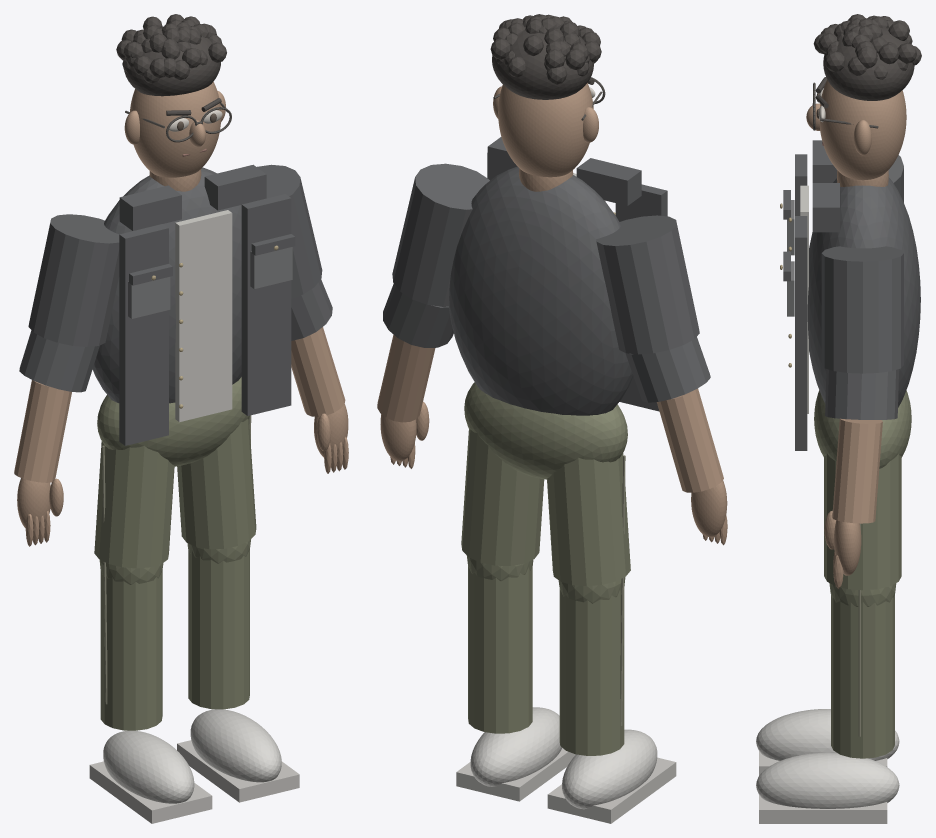
The model's file is bunty.glb.
3 renders of one model, left to right at view 1: azimuth 30°, elevation 25°; view 2: azimuth 150°, elevation 25°; view 3: azimuth 270°, elevation 25°, orthographic. The views are drawn at different scales.
Parts seen in each view (by area): view 1: white_tshirt, sleeve_upper_-1, pants_lower_1, pants_lower_-1, jacket_panel_1, jacket_panel_-1, pants_upper_-1, pants_upper_1, torso, head, sneaker_1, sneaker_-1 (+18 smaller); view 2: torso, sleeve_upper_-1, pants_lower_1, pants_lower_-1, pants_upper_-1, hip, sleeve_upper_1, pants_upper_1, head, sneaker_-1, sneaker_1, forearm_-1 (+15 smaller); view 3: sleeve_upper_1, pants_lower_1, torso, sneaker_1, head, pants_upper_1, forearm_1, sleeve_lower_1, sneaker_-1, jacket_panel_1, hair_base, hip (+16 smaller).
Boxes of the visible parts, x1=… form: white_tshirt: x1=175, y1=210, x2=232, y2=422; sleeve_upper_-1: x1=28, y1=214, x2=119, y2=346; pants_lower_1: x1=188, y1=548, x2=249, y2=709; pants_lower_-1: x1=100, y1=569, x2=162, y2=730; jacket_panel_1: x1=241, y1=194, x2=291, y2=415; jacket_panel_-1: x1=119, y1=224, x2=168, y2=445; pants_upper_-1: x1=94, y1=441, x2=174, y2=568; pants_upper_1: x1=177, y1=418, x2=256, y2=549; torso: x1=92, y1=167, x2=241, y2=403; head: x1=130, y1=81, x2=220, y2=177; sneaker_1: x1=190, y1=709, x2=281, y2=782; sneaker_-1: x1=103, y1=730, x2=194, y2=803; torso: x1=449, y1=166, x2=633, y2=415; sleeve_upper_-1: x1=596, y1=215, x2=699, y2=354; pants_lower_1: x1=468, y1=564, x2=532, y2=733; pants_lower_-1: x1=559, y1=586, x2=624, y2=755; pants_upper_-1: x1=547, y1=453, x2=630, y2=586; hip: x1=464, y1=382, x2=627, y2=479; sleeve_upper_1: x1=392, y1=163, x2=489, y2=306; pants_upper_1: x1=461, y1=429, x2=544, y2=565; head: x1=498, y1=83, x2=593, y2=177; sneaker_-1: x1=562, y1=729, x2=657, y2=809; sneaker_1: x1=470, y1=707, x2=561, y2=786; forearm_-1: x1=657, y1=388, x2=723, y2=492; sleeve_upper_1: x1=821, y1=246, x2=903, y2=373; pants_lower_1: x1=831, y1=594, x2=894, y2=758; torso: x1=807, y1=177, x2=920, y2=407; sneaker_1: x1=756, y1=752, x2=899, y2=808; head: x1=820, y1=79, x2=906, y2=180; pants_upper_1: x1=824, y1=453, x2=901, y2=590; forearm_1: x1=832, y1=418, x2=882, y2=523; sleeve_lower_1: x1=825, y1=369, x2=898, y2=419; sneaker_-1: x1=756, y1=709, x2=899, y2=760; jacket_panel_1: x1=795, y1=216, x2=807, y2=450; hair_base: x1=823, y1=28, x2=914, y2=100; hip: x1=814, y1=390, x2=911, y2=468.
Size of the model in its own units: 1.28 by 2.79 by 0.5434.
